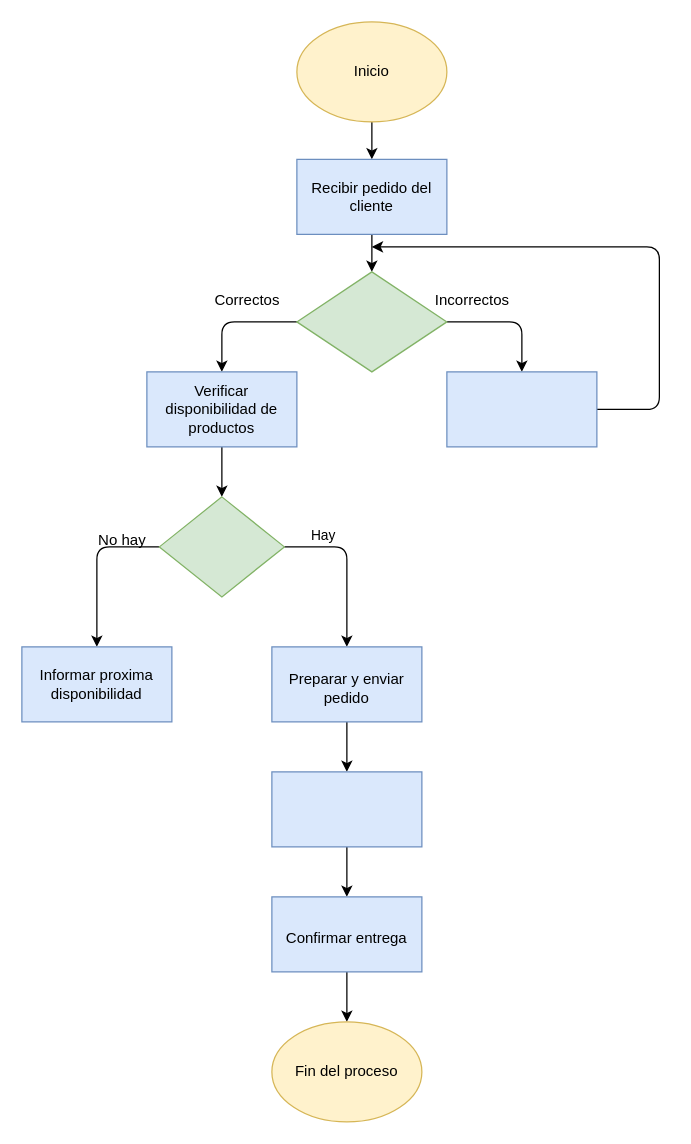
Image size: 691x1144. Some labels were removed from this diagram. The shapes that lost their labels are listed below. From the top down, each one's centre as x and y in pixels, then its label:
At [371,321]: "Datos del pedido correctos?".
At [521,409]: "Solicitar correcion al cliente".
At [221,546]: "Producto disponible?".
At [346,809]: "Emitir factura al cliente".
